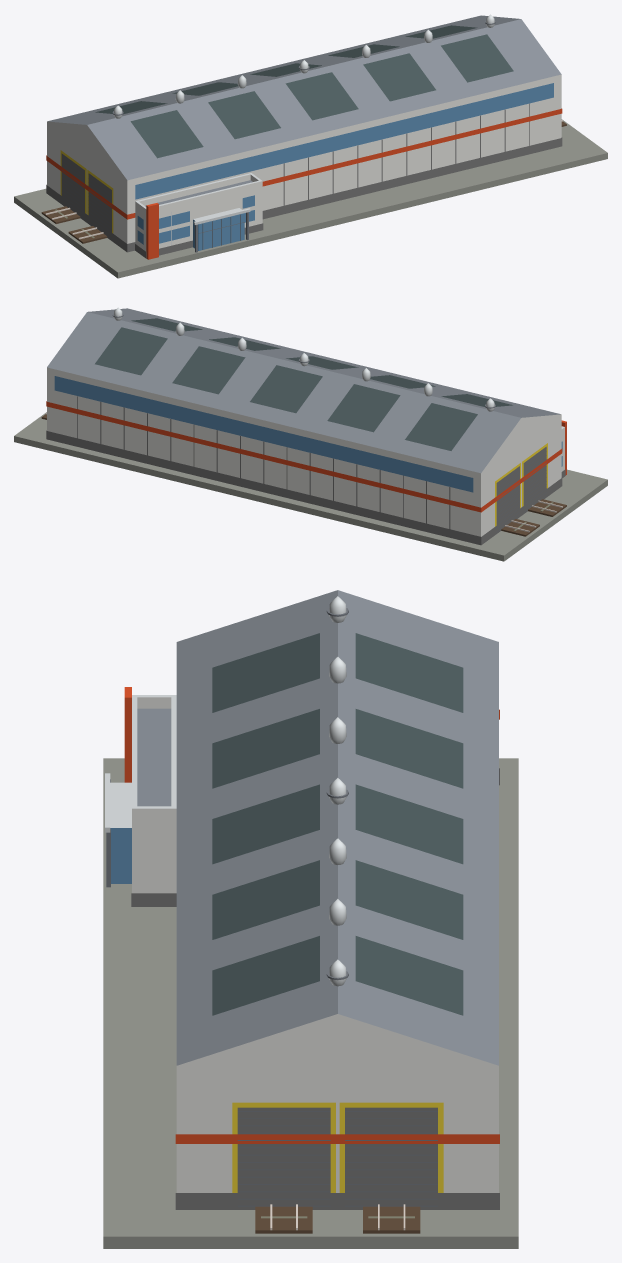
File: mashup-main-top-prebuilt_close.fbx
The picture shows the model from 3 angles, top to bottom: view 1: azimuth 30°, elevation 25°; view 2: azimuth 150°, elevation 25°; view 3: azimuth 270°, elevation 25°; orthographic projection. The views are drawn at different scales.
Visible parts, largest first — view 1: a1082/0/mashup-main-top-prebuilt_close; view 2: a1082/0/mashup-main-top-prebuilt_close; view 3: a1082/0/mashup-main-top-prebuilt_close.
Part boxes in pixels (x1,y1,x2,y2): a1082/0/mashup-main-top-prebuilt_close: (14,14,607,278); a1082/0/mashup-main-top-prebuilt_close: (14,307,607,561); a1082/0/mashup-main-top-prebuilt_close: (103,590,518,1248).
Bounding box in the file's own units: 63.2 × 14.3 × 23.2.
